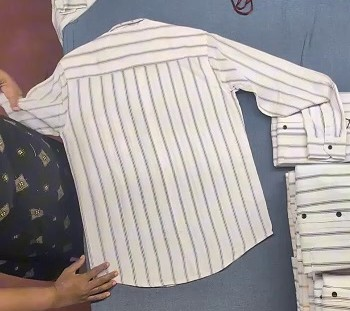SHIRT: (16, 92, 337, 227)
